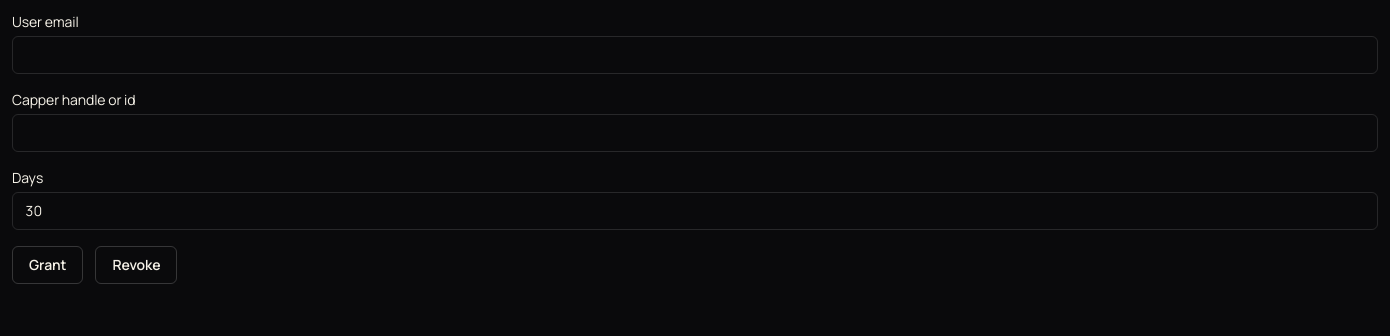
VipGrantForm › revoke shows error
In the field labelled "User email": (695, 55) [12,36,1378,74], type "a@b.com"
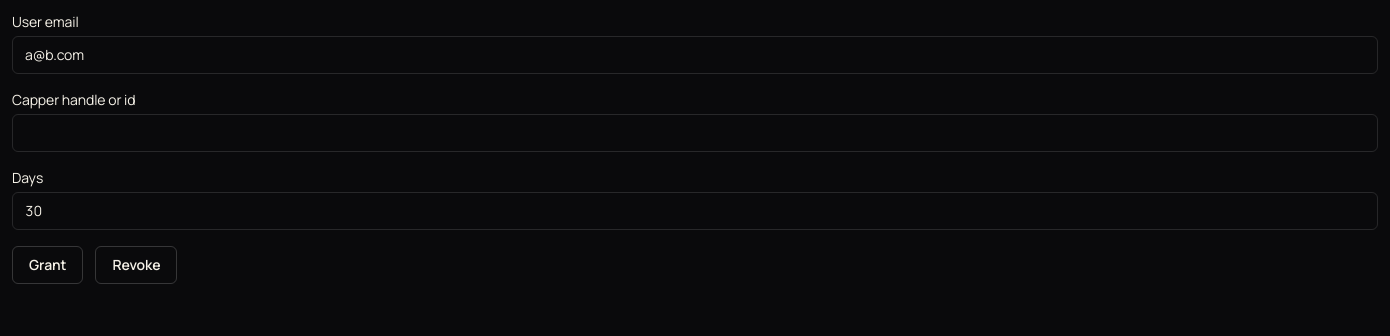
In the field labelled "Capper handle or id": (695, 133) [12,114,1378,152], type "swampy"
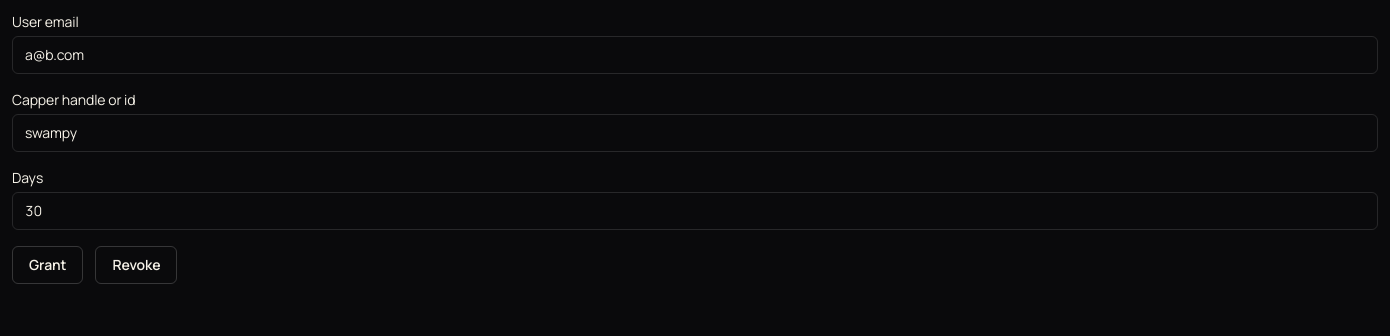
Click the button "Revoke": (136, 265) [95,246,177,284]
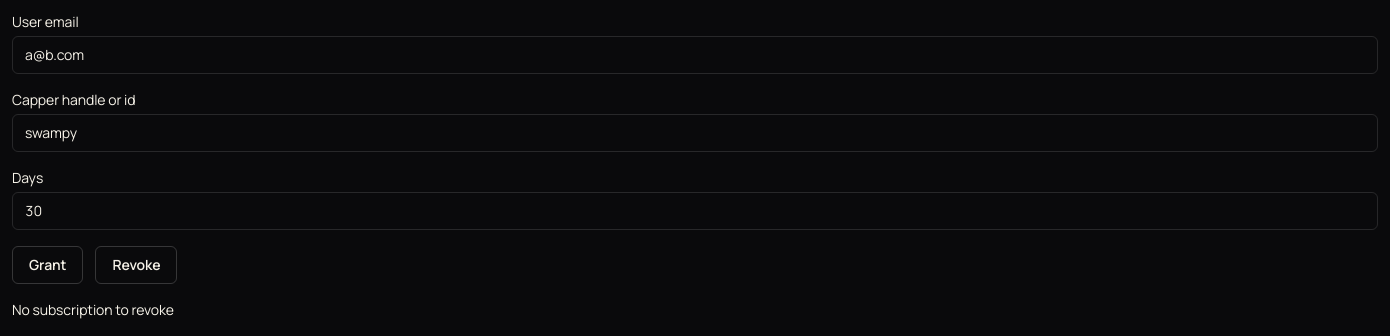
Expected: the text "No subscription to revoke" is shown, [12,300,174,319]
